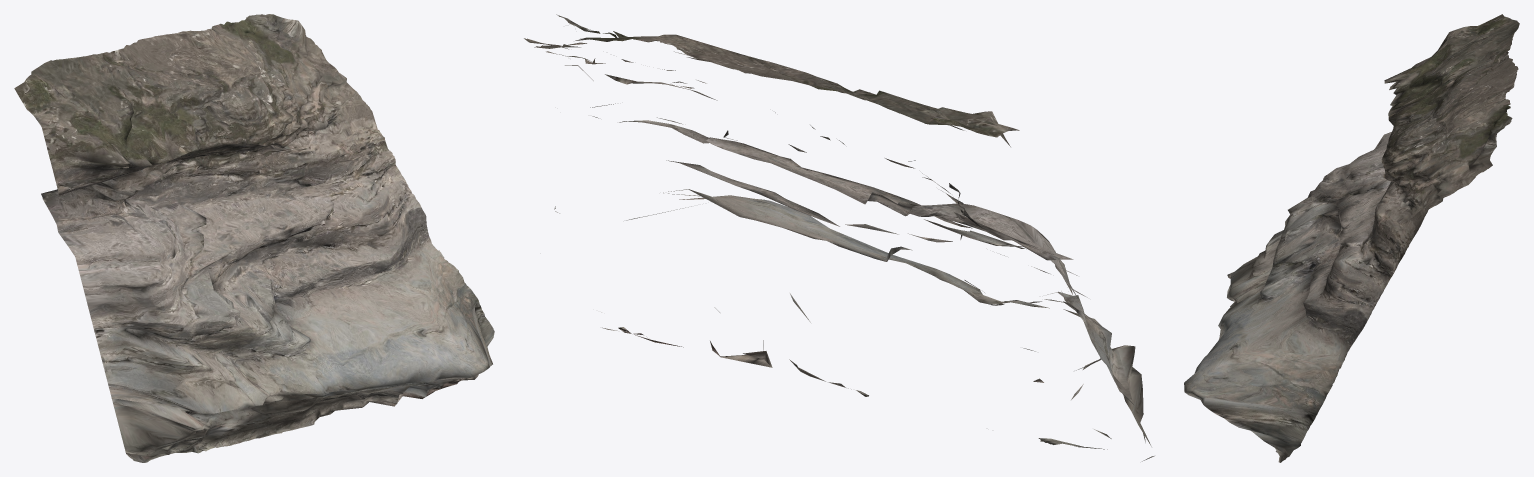
The model's file is cliff_a_lod1.glb.
The picture shows the model from 3 angles, left to right: view 1: azimuth 30°, elevation 25°; view 2: azimuth 150°, elevation 25°; view 3: azimuth 270°, elevation 25°; orthographic projection. The views are drawn at different scales.
Visible parts, largest first — view 1: cliff_a_lod1; view 2: cliff_a_lod1; view 3: cliff_a_lod1.
Part boxes in pixels (bbox=[...]): cliff_a_lod1: bbox=[14, 14, 494, 462]; cliff_a_lod1: bbox=[524, 14, 1154, 461]; cliff_a_lod1: bbox=[1184, 14, 1519, 462].
Size of the model in its own units: 31.94 by 24.91 by 25.29.
1 material, 1 textured.
